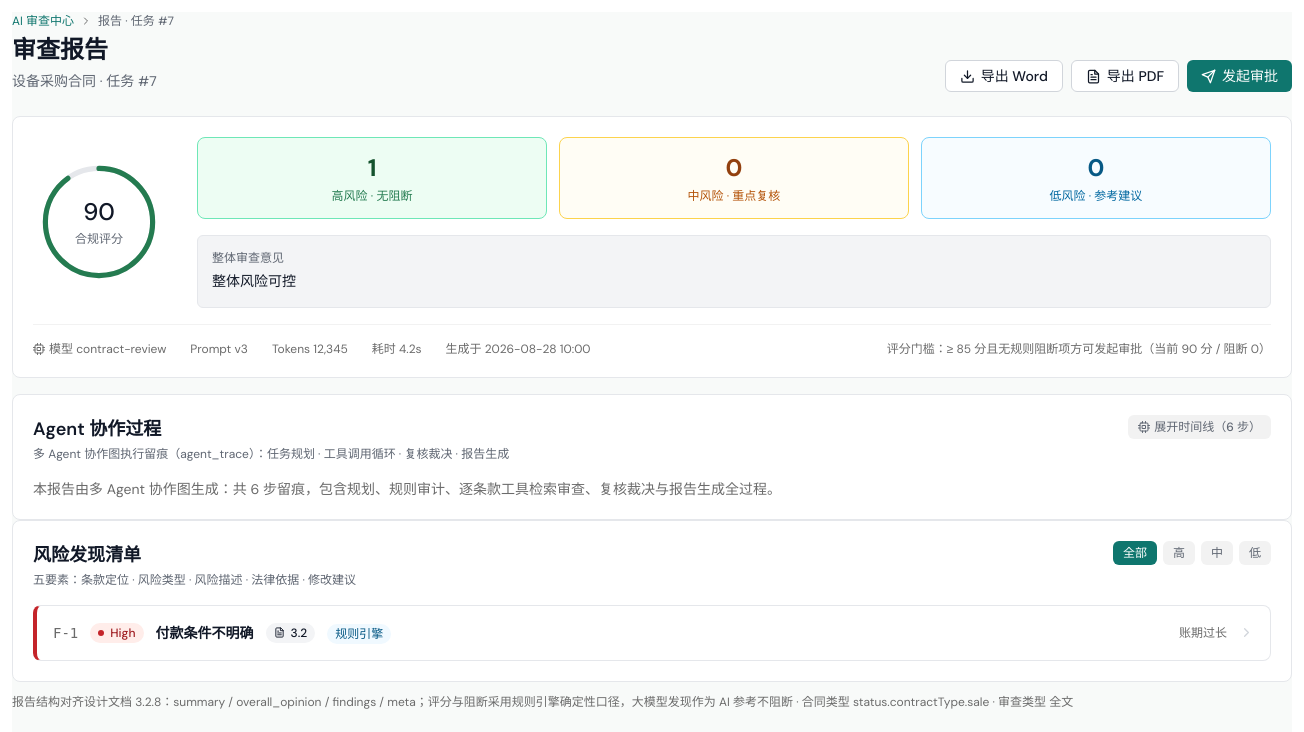
Scenario: ReviewReportView 导出与动作 › 智能体协作面板可展开/收起并生成摘要
Click the button "展开时间线（6 步）": (1200, 427) [1128,415,1271,439]
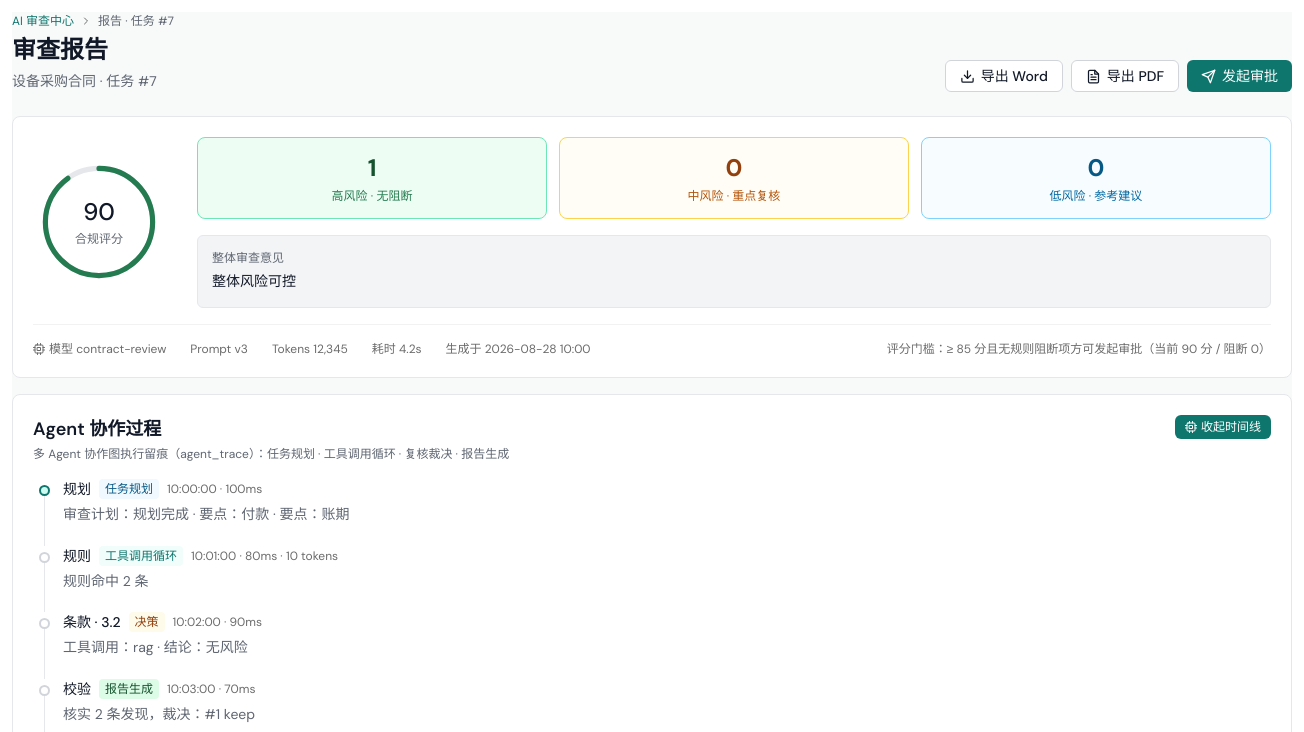
Result: the text "规划完成" is shown at [63,505,350,523]
